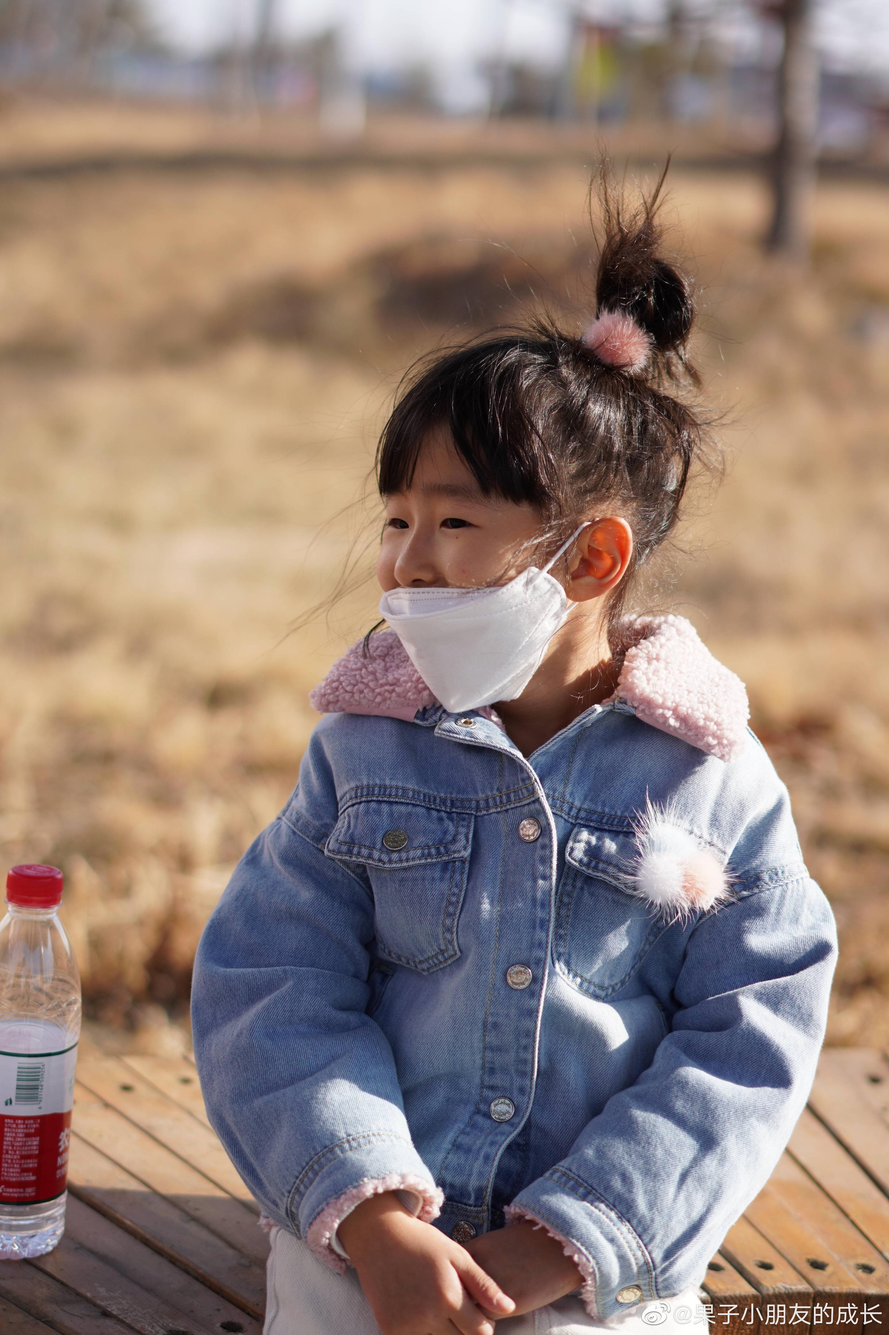WRONG: (374, 454, 554, 711)
